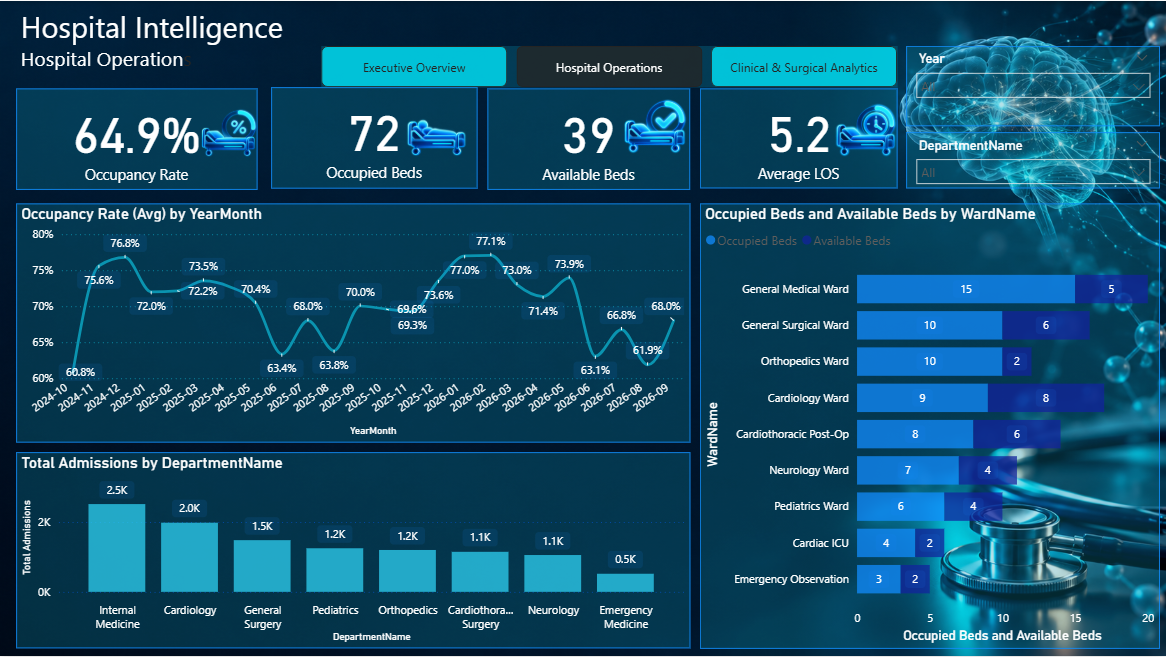

The dashboard page shown, as its layout file describes it:
{"tool":"powerbi","page":{"name":"Hospital Operations","canvas":[1280,720],"ordinal":1},"visuals":[{"type":"card","fields":{"Values":["bi FactBedCensusDaily.Occupancy Rate"]},"box":[17.8,96.1,264.8,111.1],"z":0},{"type":"card","fields":{"Values":["bi FactBedCensusDaily.Occupied Beds"]},"box":[297.8,94.7,226.4,111.1],"z":1000},{"type":"card","fields":{"Values":["bi FactBedCensusDaily.Available Beds"]},"box":[535.2,96.1,222.3,111.1],"z":2000},{"type":"card","fields":{"Values":["bi FactAdmission.Average LOS"]},"box":[768.4,96.1,216.8,109.8],"z":3000},{"type":"pageNavigator","box":[352.7,49.4,632.6,45.3],"z":4000},{"type":"textbox","box":[17.8,1.4,311.5,94.7],"z":5000},{"type":"slicer","fields":{"Values":["bi DimDate.Year"]},"box":[994.9,49.4,278.6,87.8],"z":6000},{"type":"slicer","fields":{"Values":["bi DimDepartment.DepartmentName"]},"box":[994.9,144.1,278.6,61.7],"z":8000},{"type":"lineChart","fields":{"Category":["bi DimDate.YearMonth"],"Y":["bi FactBedCensusDaily.Occupancy Rate (Avg)"]},"box":[17.8,222.3,739.6,262.1],"z":9000},{"type":"barChart","fields":{"Category":["bi DimWard.WardName"],"Y":["bi FactBedCensusDaily.Occupied Beds","bi FactBedCensusDaily.Available Beds"]},"box":[768.4,222.3,505,488.5],"z":10000},{"type":"clusteredColumnChart","fields":{"Category":["bi DimDepartment.DepartmentName"],"Y":["bi DimDate.Total Admissions"]},"box":[17.8,495.4,739.6,215.4],"z":11000},{"type":"image","box":[668.3,91.9,100.2,90.6],"z":12000},{"type":"image","box":[432.2,100.2,91.9,89.2],"z":13000},{"type":"image","box":[904.3,94.7,90.6,94.7],"z":14000},{"type":"image","box":[203.1,100.2,94.7,90.6],"z":15000}]}

Visuals, with their boxes in screenshot pixels (x1, y1, x2, y2), scaled from the page's 1280x720 canvas onto the 1166x657 screenshot:
card - bi FactBedCensusDaily.Occupancy Rate: Rect(16, 88, 257, 189)
card - bi FactBedCensusDaily.Occupied Beds: Rect(271, 86, 478, 188)
card - bi FactBedCensusDaily.Available Beds: Rect(488, 88, 690, 189)
card - bi FactAdmission.Average LOS: Rect(700, 88, 897, 188)
pageNavigator: Rect(321, 45, 898, 86)
textbox: Rect(16, 1, 300, 88)
slicer - bi DimDate.Year: Rect(906, 45, 1160, 125)
slicer - bi DimDepartment.DepartmentName: Rect(906, 131, 1160, 188)
lineChart - bi DimDate.YearMonth x bi FactBedCensusDaily.Occupancy Rate (Avg): Rect(16, 203, 690, 442)
barChart - bi DimWard.WardName x bi FactBedCensusDaily.Occupied Beds: Rect(700, 203, 1160, 649)
clusteredColumnChart - bi DimDepartment.DepartmentName x bi DimDate.Total Admissions: Rect(16, 452, 690, 649)
image: Rect(609, 84, 700, 167)
image: Rect(394, 91, 477, 173)
image: Rect(824, 86, 906, 173)
image: Rect(185, 91, 271, 174)
